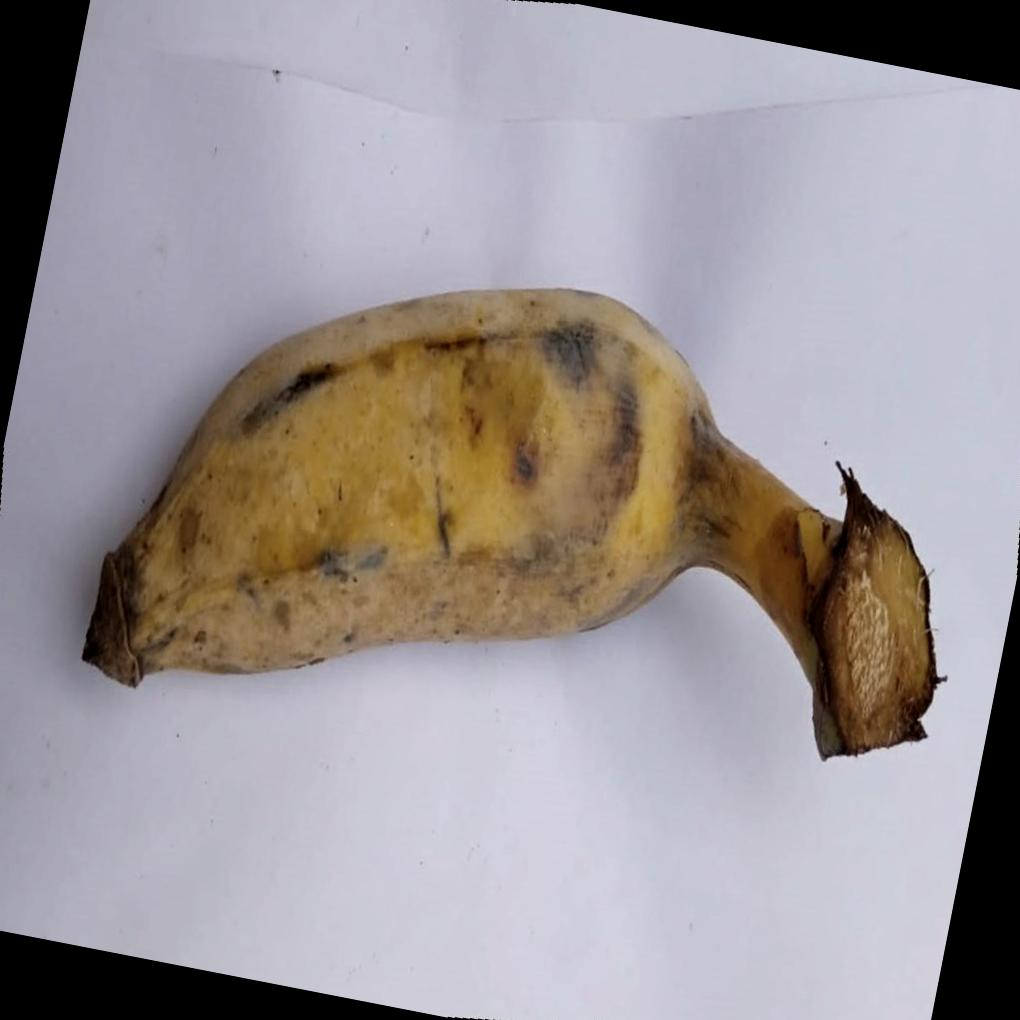Banana Ripe: (49, 149, 1000, 941)
